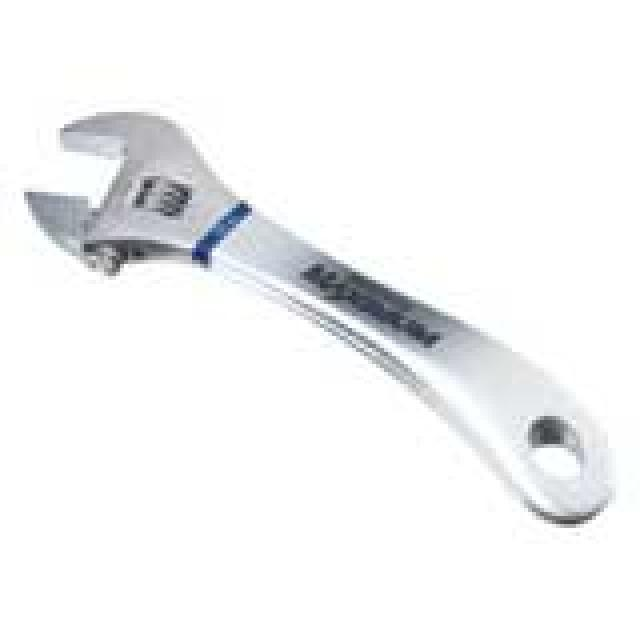wrench: (14, 100, 624, 536)
